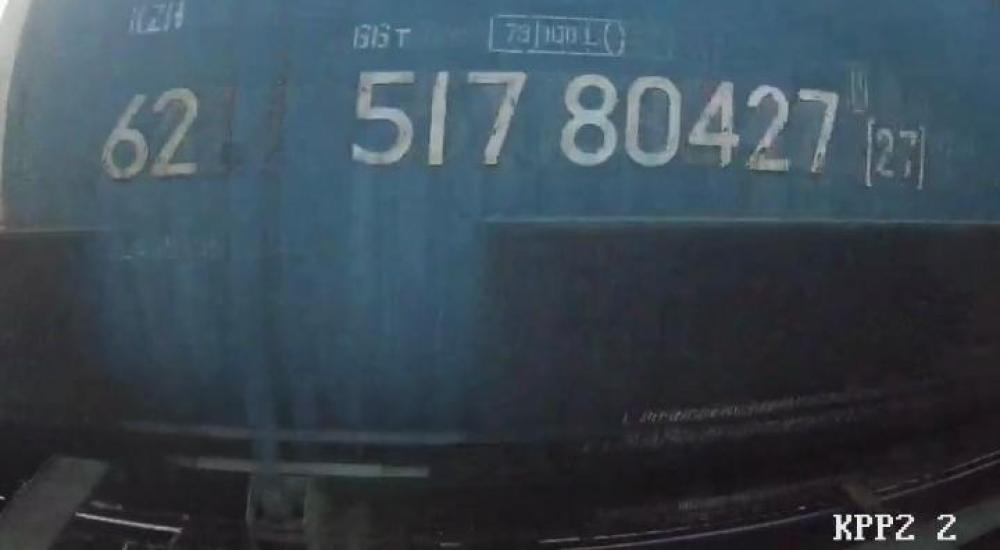Wagon-number: (342, 61, 846, 179)
